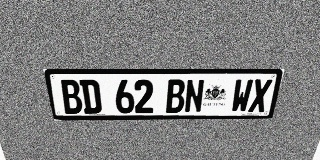2: (134, 79, 153, 113)
6: (114, 79, 135, 113)
B: (59, 80, 84, 114), (166, 79, 186, 113)
D: (79, 80, 102, 114)
N: (184, 79, 205, 113)
W: (230, 79, 254, 112)
X: (248, 79, 273, 112)
